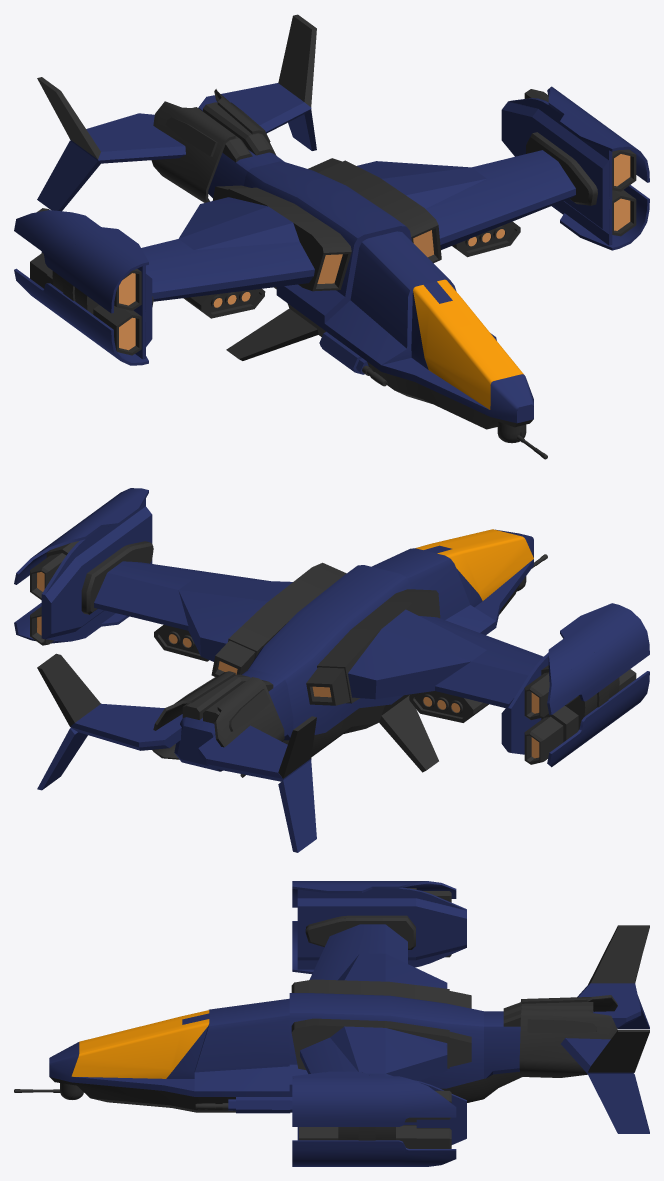
Rendered from ShipTestFix (1).fbx.
The picture shows the model from 3 angles, top to bottom: view 1: azimuth 30°, elevation 25°; view 2: azimuth 150°, elevation 25°; view 3: azimuth 270°, elevation 25°; orthographic projection. The views are drawn at different scales.
Parts seen in each view (by area): view 1: Cube.090, Cube.094; view 2: Cube.090, Cube.094; view 3: Cube.090, Cube.094.
Boxes of the visible parts, box(x1,y1,x2,y2) form: Cube.090: box(37, 14, 575, 459); Cube.094: box(14, 86, 649, 365); Cube.090: box(37, 529, 547, 852); Cube.094: box(14, 488, 649, 767); Cube.090: box(14, 924, 649, 1133); Cube.094: box(292, 881, 466, 1166).
Size of the model in its own units: 225 by 66.26 by 275.
